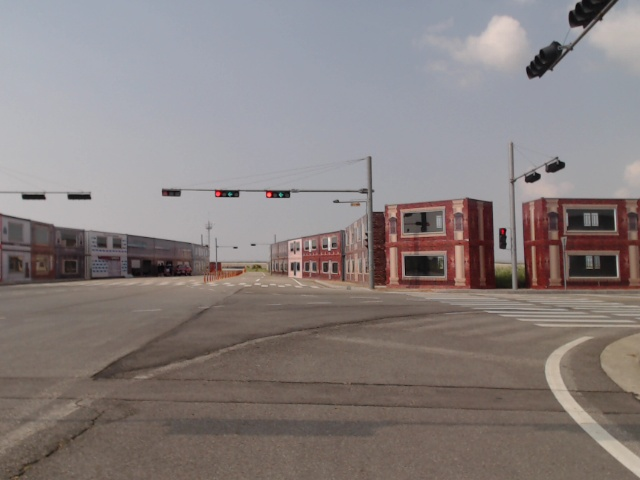left_green_4: (266, 191, 289, 199), (215, 191, 238, 198)
